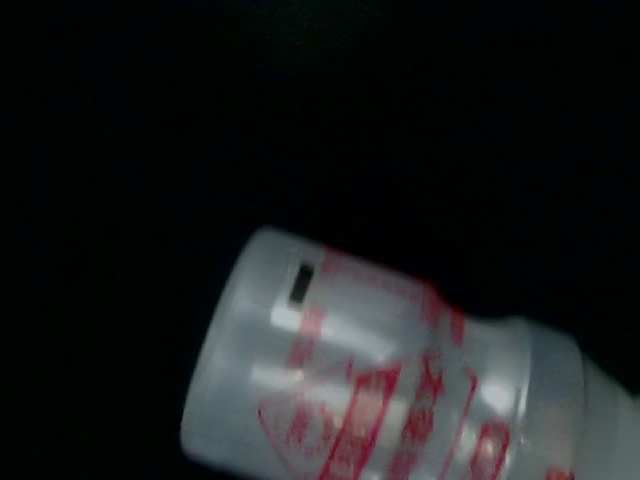CYLJ: (285, 426, 499, 480)
